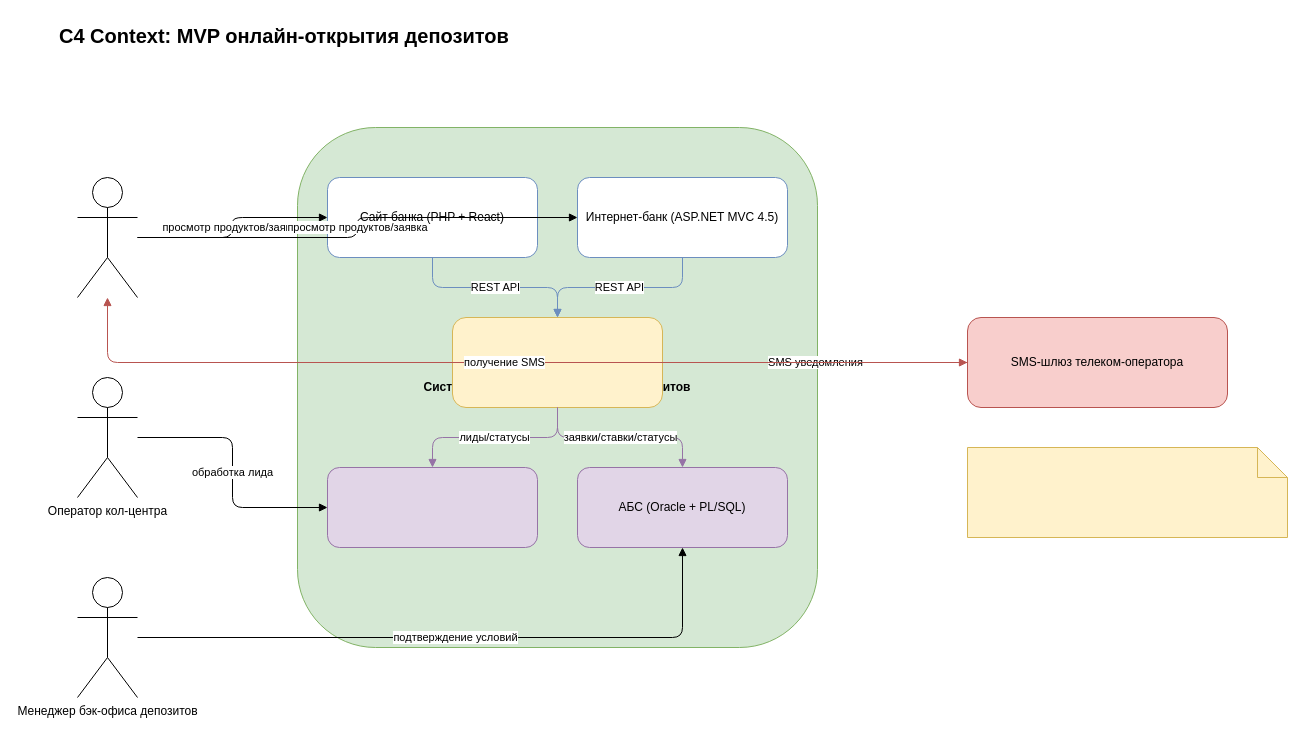
Image size: 1305x735. Some labels were removed from this diagram. Here are the shapes that lost their labels. From the top down, the centre of each, then its label:
[107,237]: Клиент
[557,362]: Сервис депозитных заявок (MVP)
[432,507]: Система кол-центра
[1127,492]: Примечание: интернет-банк и сайт не обращаются к АБС напрямую в новом процессе.
